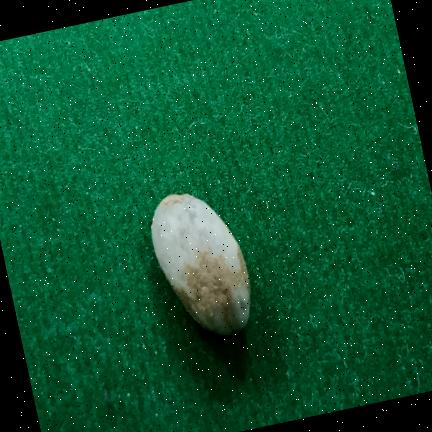good: (151, 194, 250, 335)
